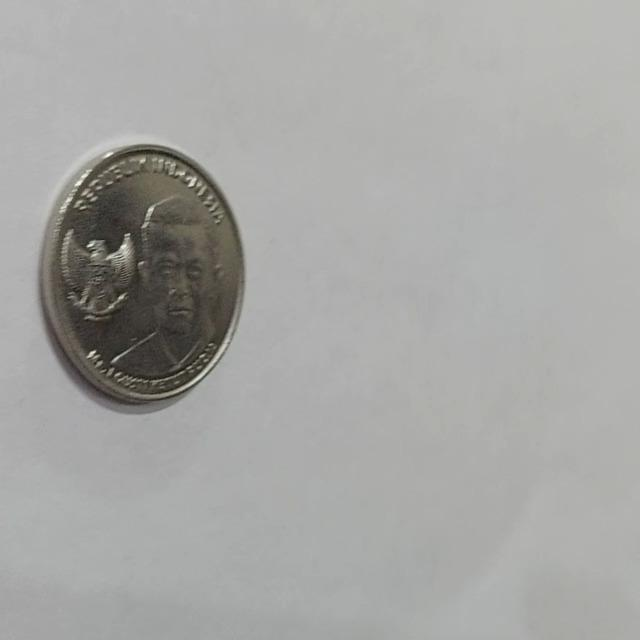Rp100: (38, 140, 246, 406)
